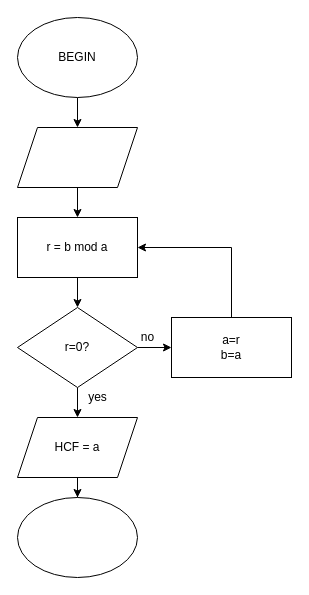
This 309x595 diagram has some shape labels left out. The centre of each missing label's shape, as x and y in pixels:
END: [77,537]
ENTER a, b: [77,157]
